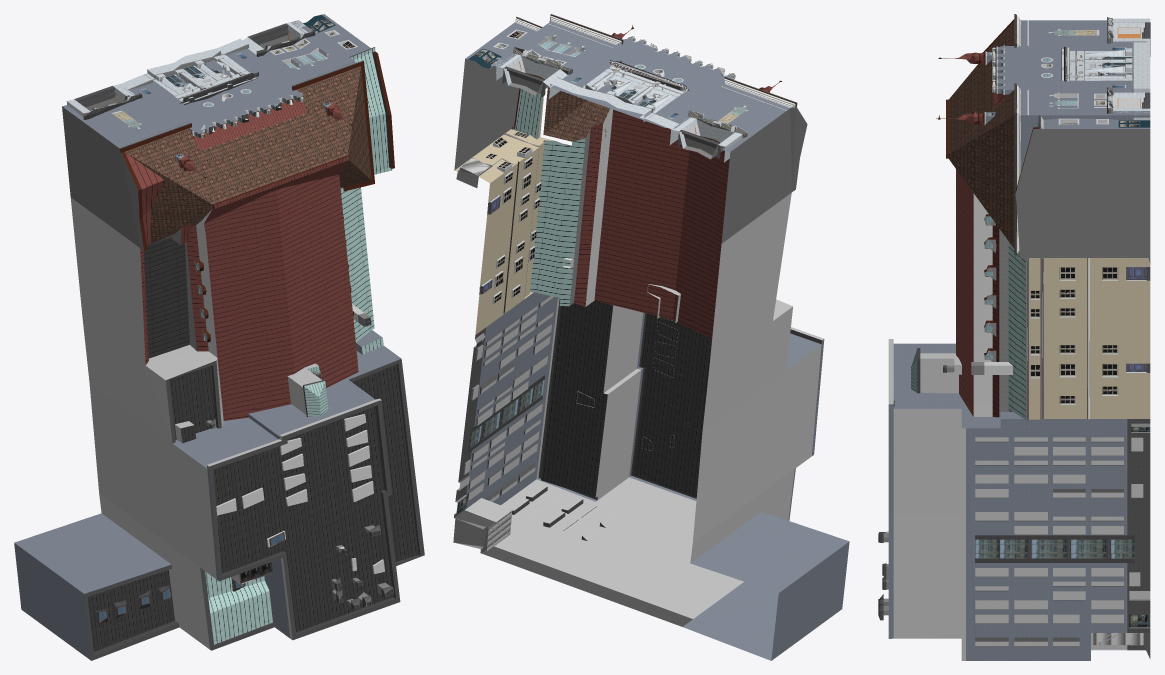
The model's file is Vabaduse-Valjak_5-origo.obj.
3 views of the same model, side by side, from view 1: azimuth 30°, elevation 25°; view 2: azimuth 150°, elevation 25°; view 3: azimuth 270°, elevation 25° (orthographic). The views are drawn at different scales.
Parts seen in each view (by area): view 1: Vabaduse_Valiak_5; view 2: Vabaduse_Valiak_5; view 3: Vabaduse_Valiak_5.
Part boxes in pixels (box(x1,y1,x2,y2)): Vabaduse_Valiak_5: box(14, 14, 424, 660); Vabaduse_Valiak_5: box(453, 14, 849, 660); Vabaduse_Valiak_5: box(878, 14, 1150, 660).
Size of the model in its own units: 41.94 by 65 by 27.99.
